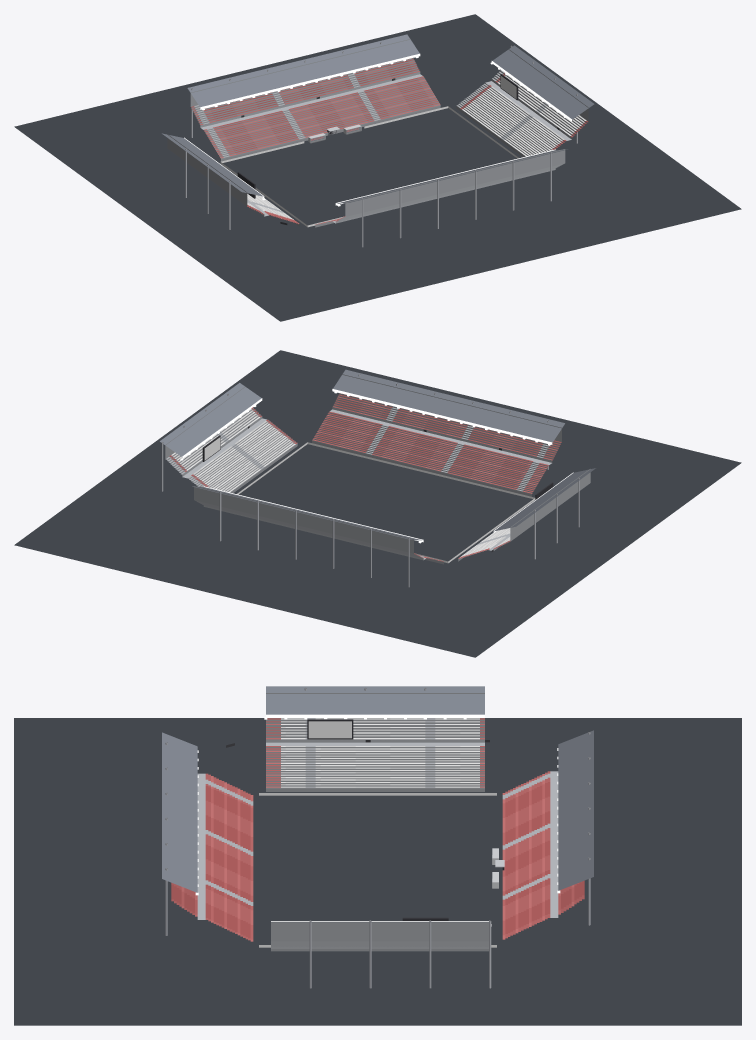
File: stadium_classic.glb
3 views of the same model, one above another, from view 1: azimuth 30°, elevation 25°; view 2: azimuth 150°, elevation 25°; view 3: azimuth 270°, elevation 25° (orthographic). The views are drawn at different scales.
Visible parts, largest first — view 1: concourse, stand_concrete, stand_seats, roof, roof_fascia, roof_columns, ad_ring; view 2: concourse, stand_concrete, stand_seats, roof, roof_fascia, roof_columns, ad_ring; view 3: concourse, stand_seats, stand_concrete, roof, roof_columns, roof_fascia, screens, ad_ring.
Part boxes in pixels (<box>): concourse: <box>14,14,741,321</box>; stand_concrete: <box>167,39,588,227</box>; stand_seats: <box>191,58,587,224</box>; roof: <box>162,34,594,203</box>; roof_fascia: <box>184,53,571,205</box>; roof_columns: <box>185,42,577,247</box>; ad_ring: <box>220,106,518,227</box>; concourse: <box>14,350,741,657</box>; stand_concrete: <box>165,374,590,564</box>; stand_seats: <box>165,393,561,561</box>; roof: <box>160,369,595,540</box>; roof_fascia: <box>182,389,573,542</box>; roof_columns: <box>161,374,579,587</box>; ad_ring: <box>237,442,535,563</box>; concourse: <box>14,718,741,1025</box>; stand_seats: <box>171,718,584,941</box>; stand_concrete: <box>197,693,558,951</box>; roof: <box>162,686,593,922</box>; roof_columns: <box>165,687,590,988</box>; roof_fascia: <box>266,714,488,921</box>; screens: <box>308,721,351,738</box>; ad_ring: <box>259,793,496,947</box>.
Size of the model in its own units: 234 by 23.86 by 234.
